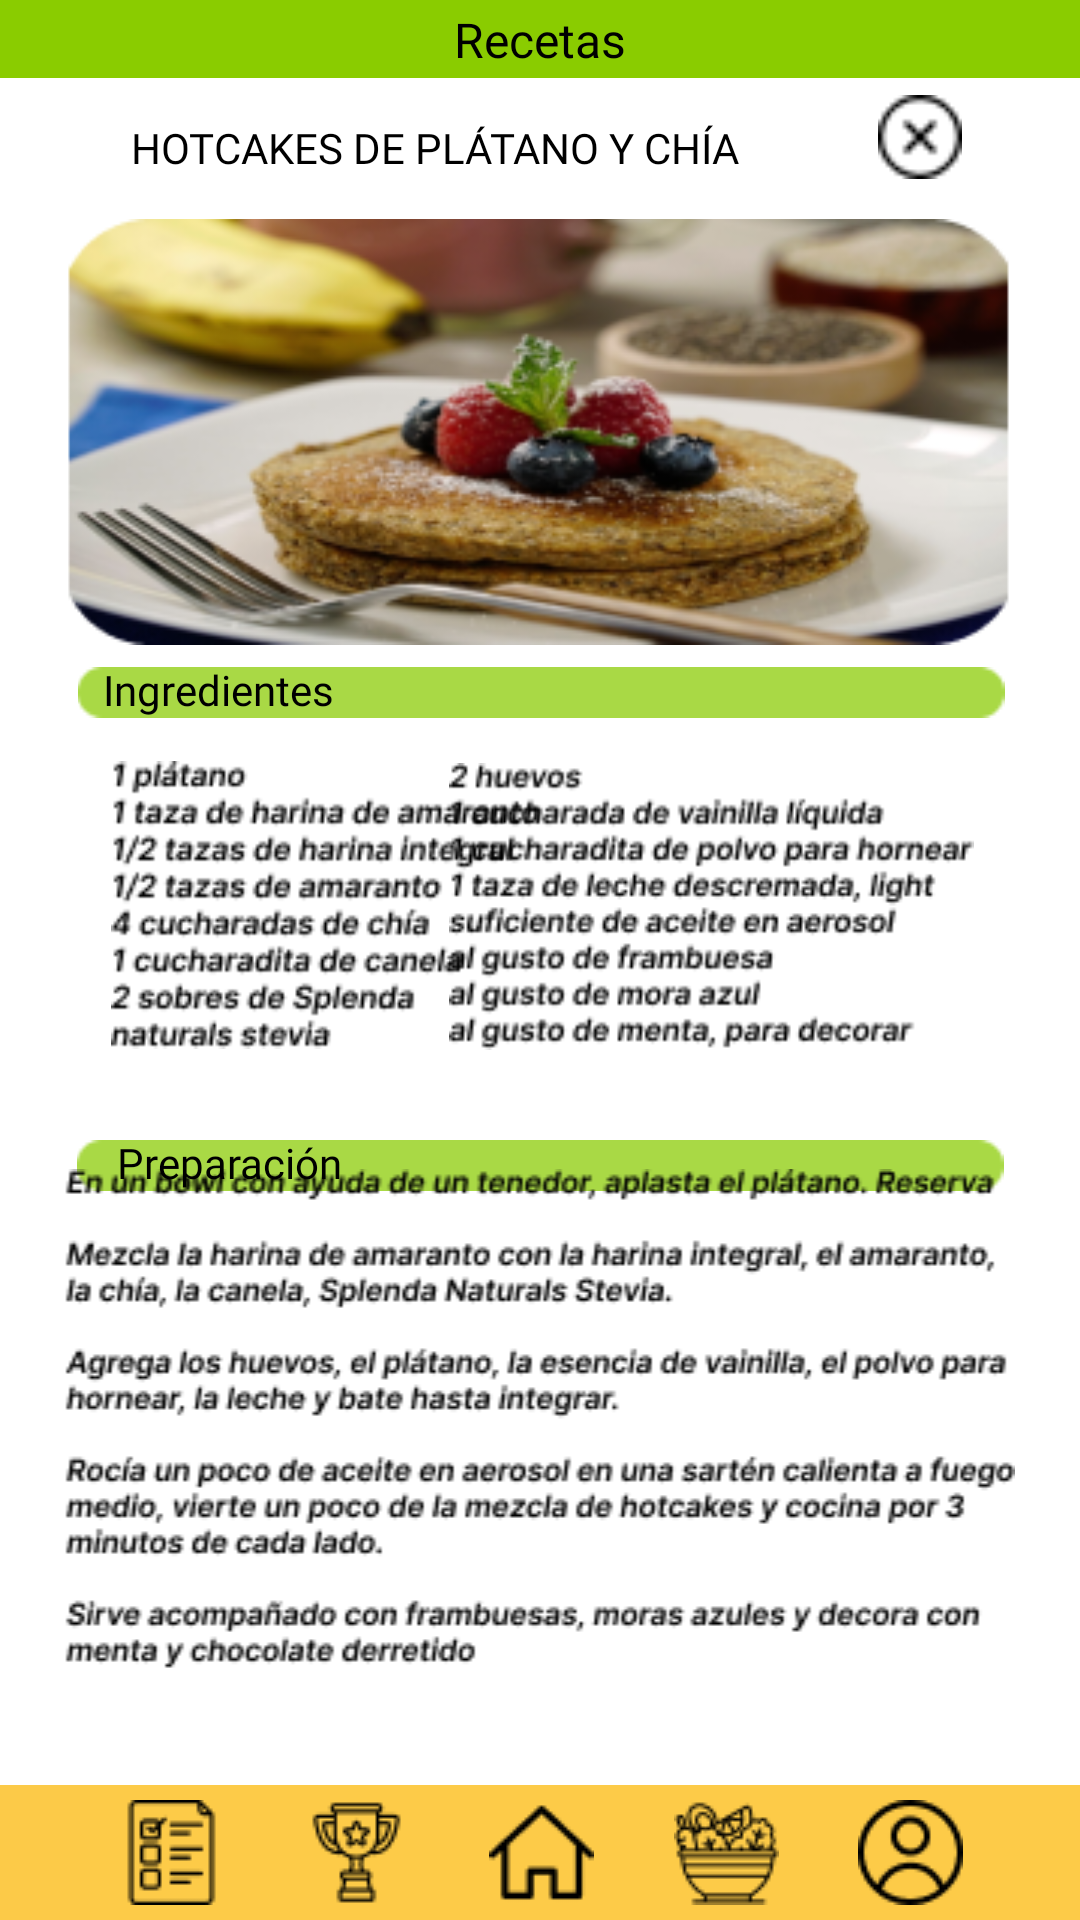

Icons on this 1080px×1920px Android screen, each with the point to tap as [x,y]:
iniciop: [541,1852]
listatareas: [171,1852]
logros: [356,1852]
perfil: [910,1852]
recetass: [726,1853]
volver: [920,137]
